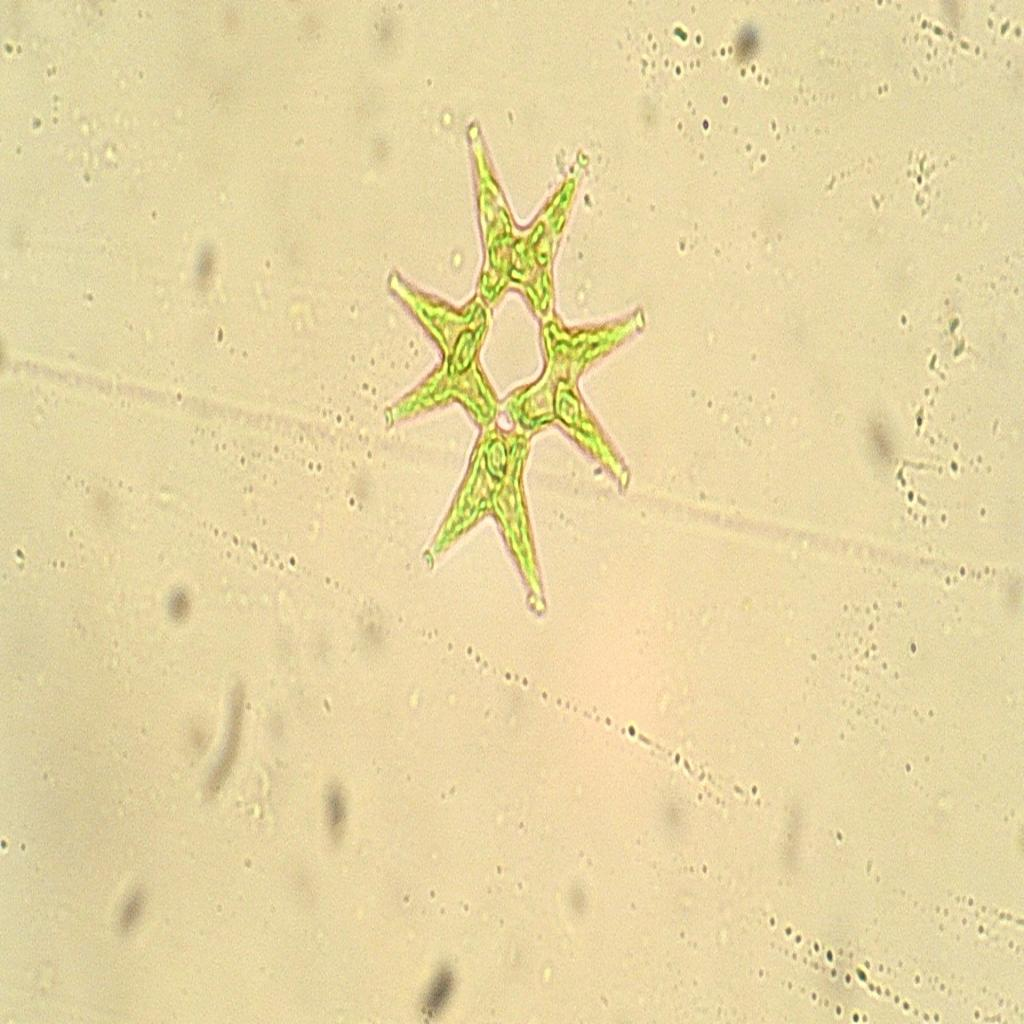Pediastrum_75FI: (374, 96, 647, 636)
